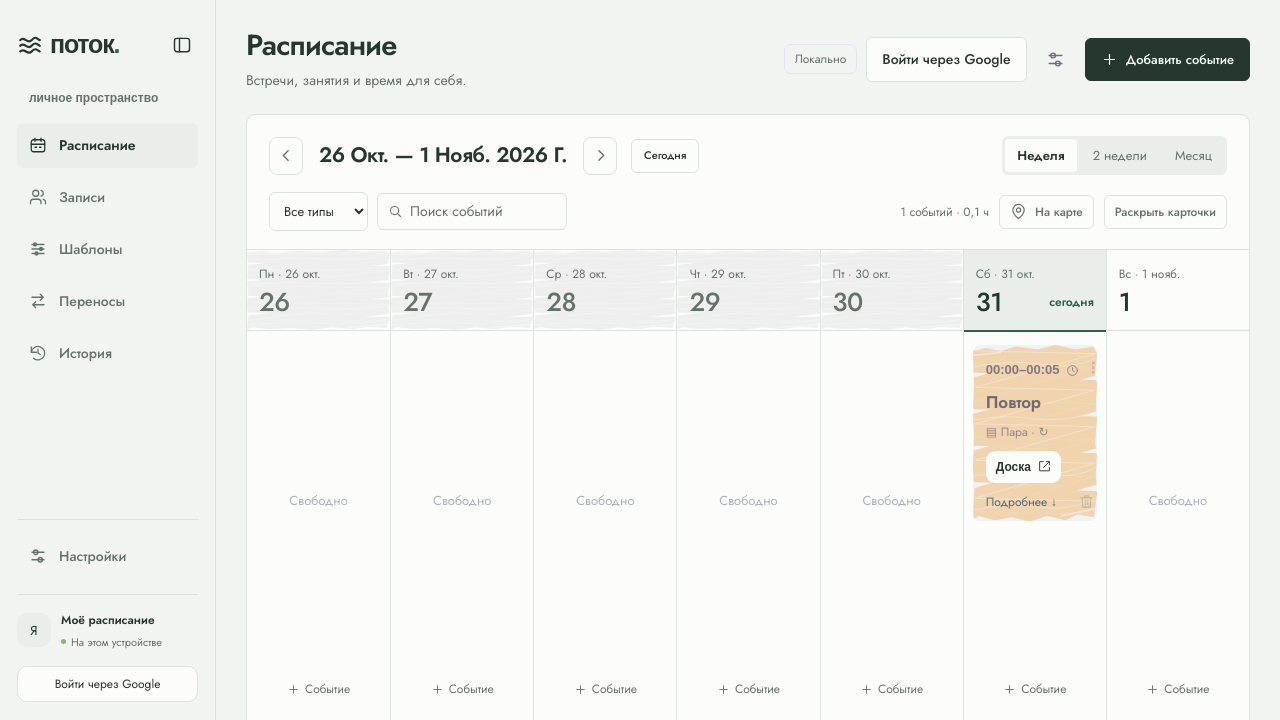
Test case: app ends repeats without losing earlier meetings after reopening storage
Click the button with class "card-open" at (1035, 398), box [973, 345, 1097, 450]
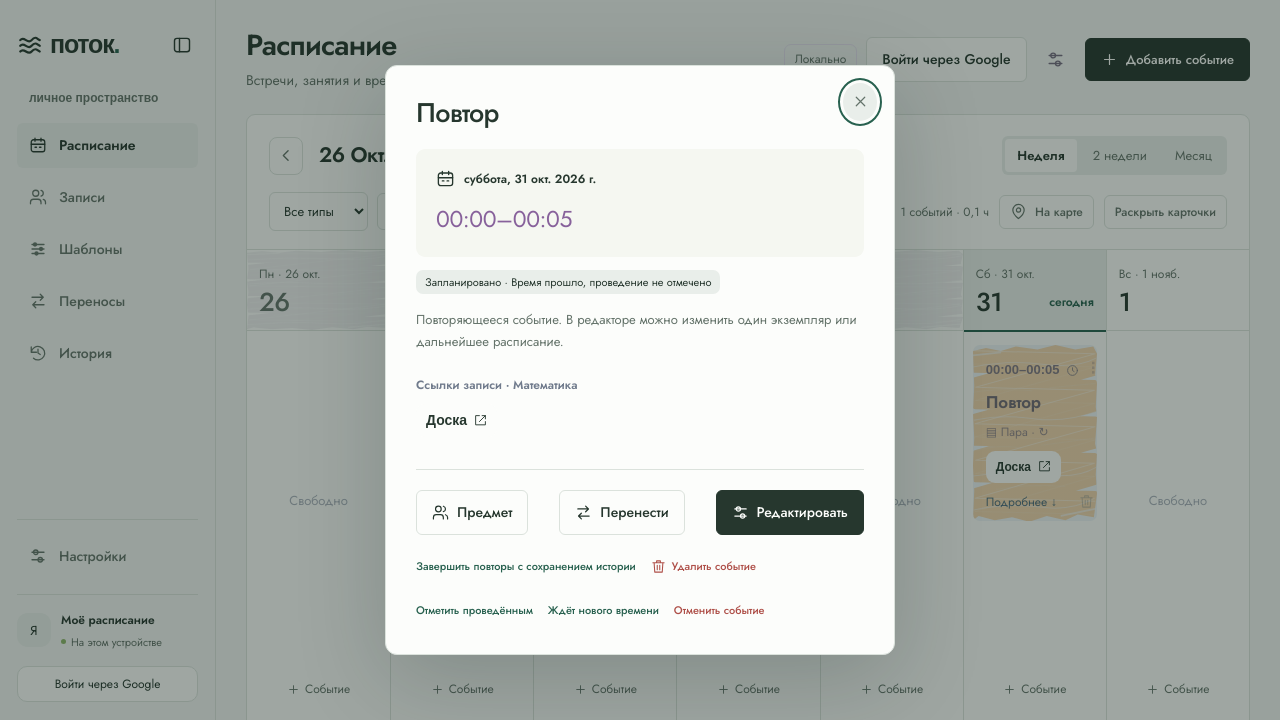
expect the button "Завершить повторы с сохранением истории" is shown: met
Click the button "Завершить повторы с сохранением истории" at (526, 567), box [416, 552, 636, 581]
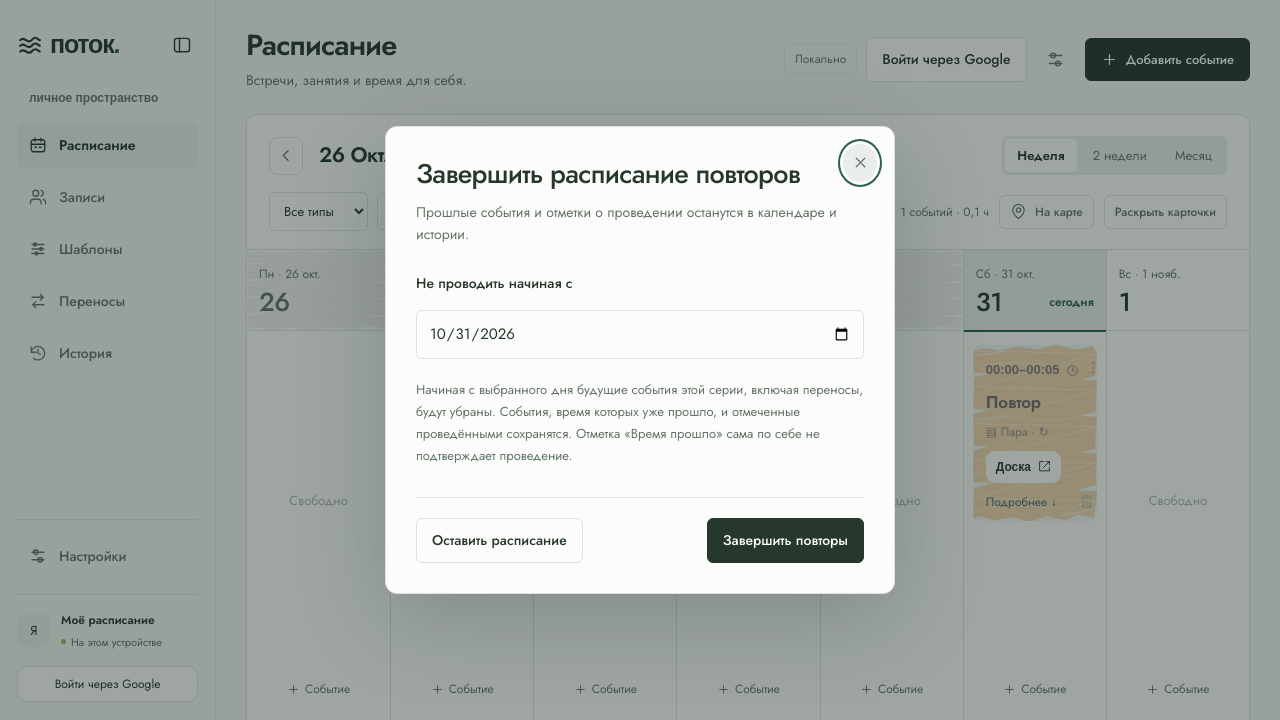
Submit the form, box [416, 273, 864, 563]
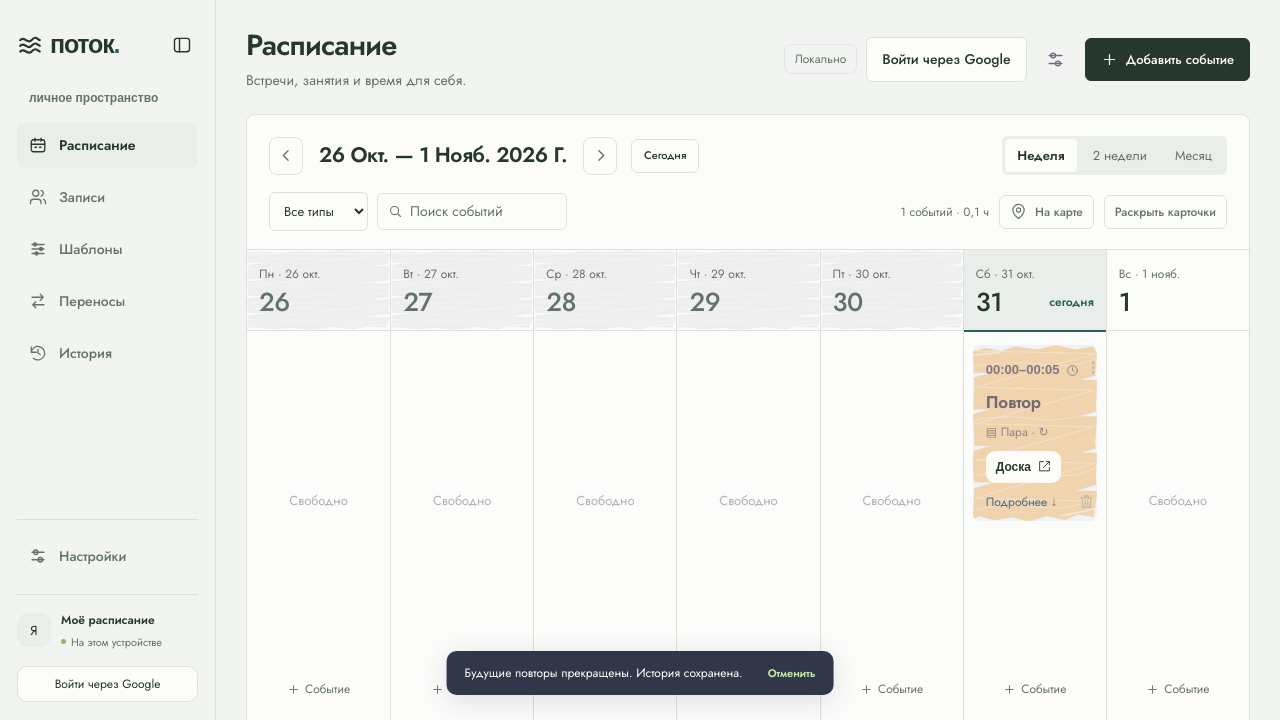
Click the button "История" at (108, 353), box [17, 330, 198, 376]
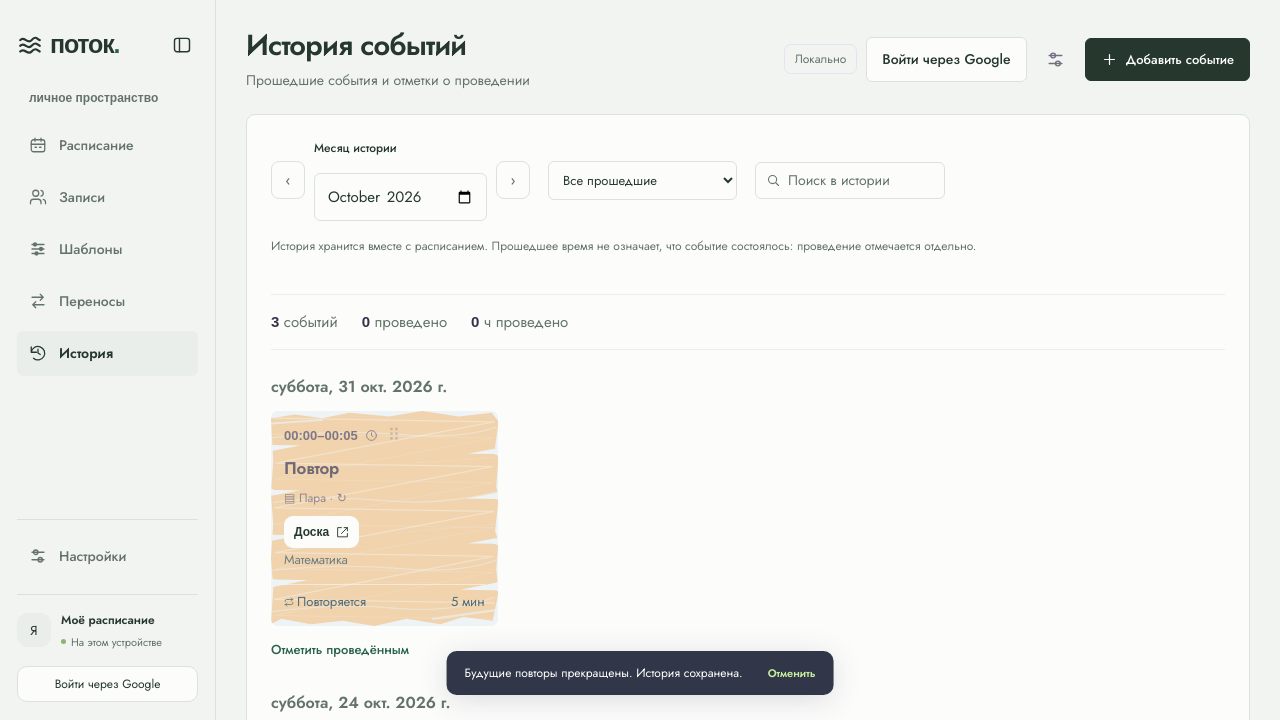
expect the text "Прошедшее время не означает" is shown: met, box [271, 237, 976, 255]
